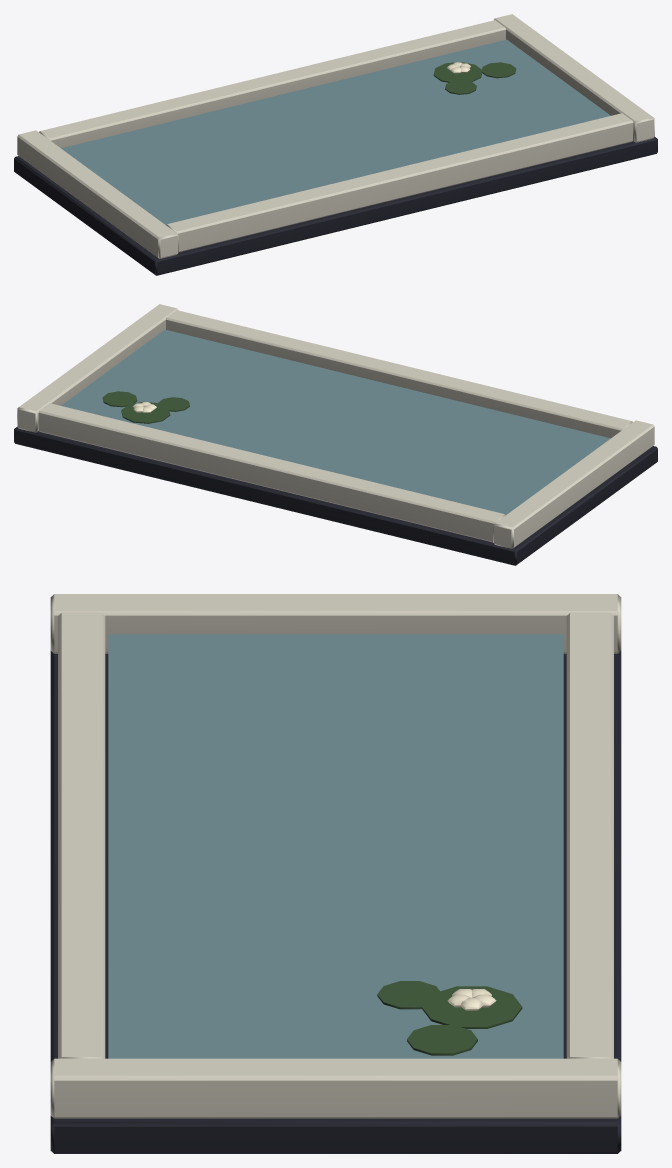
The model's file is pool_reflecting.glb.
3 views of the same model, one above another, from view 1: azimuth 30°, elevation 25°; view 2: azimuth 150°, elevation 25°; view 3: azimuth 270°, elevation 25° (orthographic). The views are drawn at different scales.
Visible parts, largest first — view 1: pool_reflecting, water; view 2: pool_reflecting, water; view 3: water, pool_reflecting.
Boxes of the visible parts, box(x1,y1,x2,y2) form: pool_reflecting: box(14, 14, 657, 275); water: box(61, 39, 610, 224); pool_reflecting: box(14, 304, 657, 565); water: box(61, 329, 610, 514); water: box(108, 634, 563, 1058); pool_reflecting: box(50, 594, 621, 1153).
Size of the model in its own units: 3.93 by 0.28 by 1.93.
